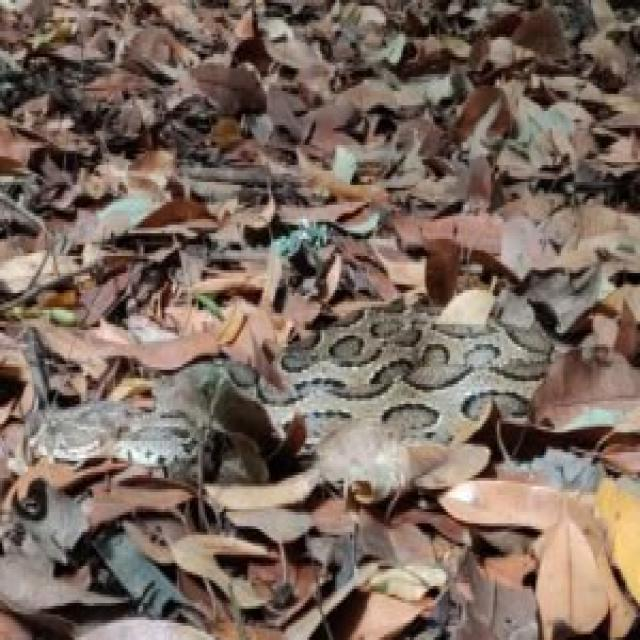snake: (28, 310, 555, 498)
